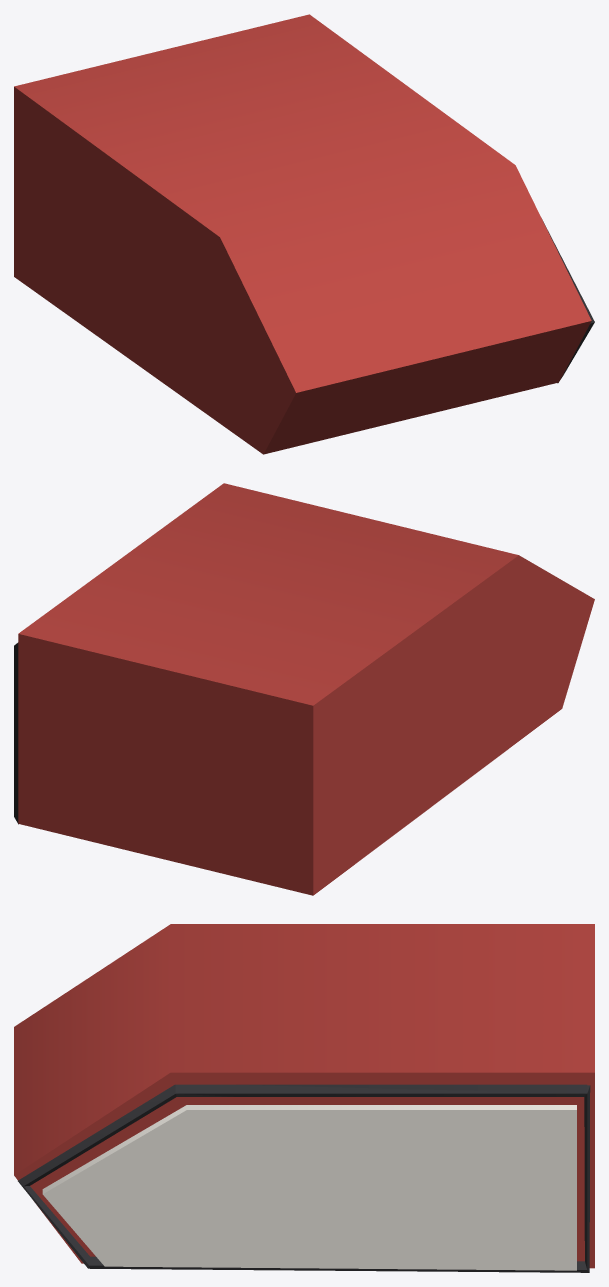
File: triple_lod1.glb
3 renders of one model, top to bottom at view 1: azimuth 30°, elevation 25°; view 2: azimuth 150°, elevation 25°; view 3: azimuth 270°, elevation 25°, orthographic. The views are drawn at different scales.
Parts seen in each view (by area): view 1: triple_lod1; view 2: triple_lod1; view 3: triple_lod1.
Boxes of the visible parts, x1=… form: triple_lod1: x1=14, y1=14, x2=594, y2=454; triple_lod1: x1=14, y1=483, x2=594, y2=895; triple_lod1: x1=14, y1=924, x2=594, y2=1272.
Bounding box in the file's own units: 1.35 × 0.8134 × 2.15.
